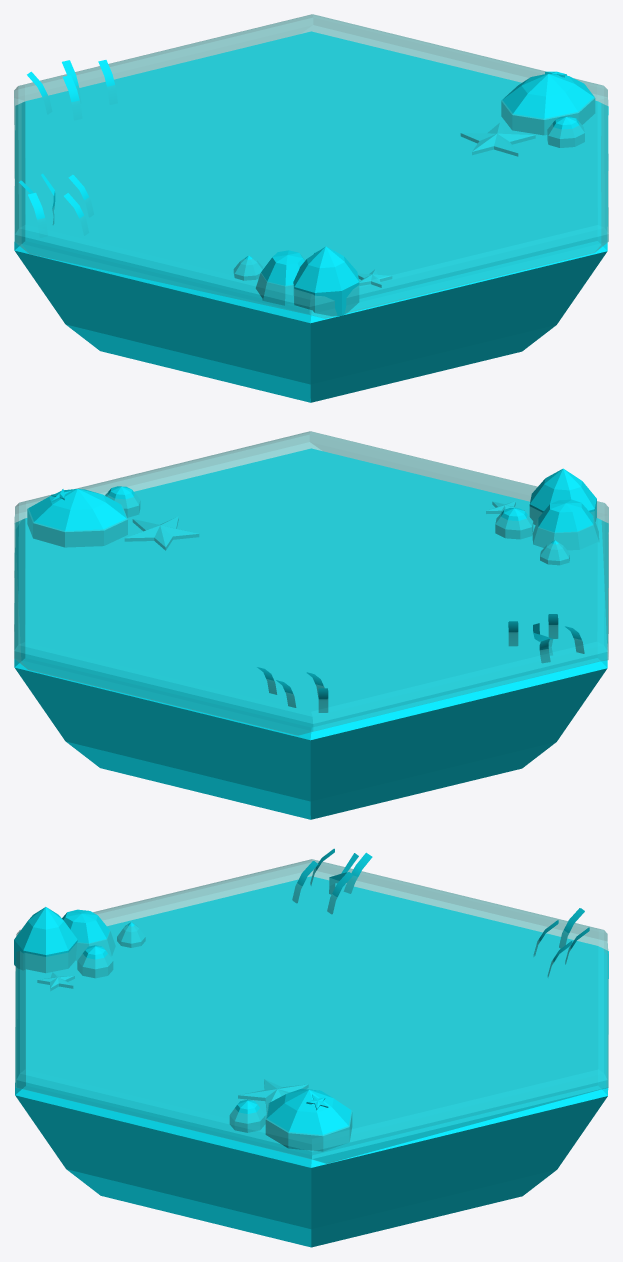
Rendered from Asset_Biome_Beach_02.fbx.
3 renders of one model, top to bottom at view 1: azimuth 30°, elevation 25°; view 2: azimuth 150°, elevation 25°; view 3: azimuth 270°, elevation 25°, orthographic.
Parts seen in each view (by area): view 1: Asset_Tile_Sand, Asset_Tile_Water, PolySurface_Rock_02, PolySurface_Rock_01, PolySurface_Rock_05, PolySurface_Star_02, PolySurface_Rock_07, PolySurface_Rock_03; view 2: Asset_Tile_Sand, Asset_Tile_Water, PolySurface_Rock_02, PolySurface_Rock_05, PolySurface_Rock_01, PolySurface_Star_02, PolySurface_Rock_04, PolySurface_Rock_07, PolySurface_Rock_03; view 3: Asset_Tile_Sand, Asset_Tile_Water, PolySurface_Rock_02, PolySurface_Rock_01, PolySurface_Rock_05, PolySurface_Rock_04, PolySurface_Rock_07, PolySurface_Star_02.
Part boxes in pixels (x1,y1,x2,y2): Asset_Tile_Sand: (14,31,608,402); Asset_Tile_Water: (14,14,608,318); PolySurface_Rock_02: (501,73,595,135); PolySurface_Rock_01: (293,246,359,316); PolySurface_Rock_05: (256,250,304,305); PolySurface_Star_02: (460,123,535,156); PolySurface_Rock_07: (547,116,584,147); PolySurface_Rock_03: (233,255,263,280); Asset_Tile_Sand: (14,448,608,819); Asset_Tile_Water: (14,431,608,735); PolySurface_Rock_02: (27,489,127,547); PolySurface_Rock_05: (532,499,599,550); PolySurface_Rock_01: (529,468,596,524); PolySurface_Star_02: (124,516,199,550); PolySurface_Rock_04: (495,508,533,539); PolySurface_Rock_07: (105,486,140,517); PolySurface_Rock_03: (540,540,569,565); Asset_Tile_Sand: (15,876,608,1247); Asset_Tile_Water: (15,859,608,1163); PolySurface_Rock_02: (265,1088,352,1151); PolySurface_Rock_01: (14,907,77,972); PolySurface_Rock_05: (62,909,115,960); PolySurface_Rock_04: (77,945,113,978); PolySurface_Rock_07: (229,1099,265,1132); PolySurface_Star_02: (238,1079,308,1112).
Bounding box in the file's own units: 436 × 135 × 379.
